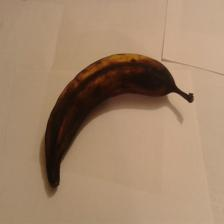Banana Rotten: (58, 41, 207, 118), (42, 54, 86, 190)
